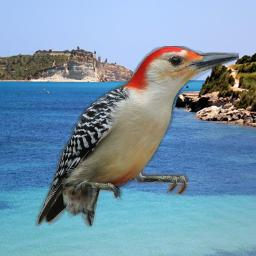Woodpecker: (35, 46, 239, 227)
